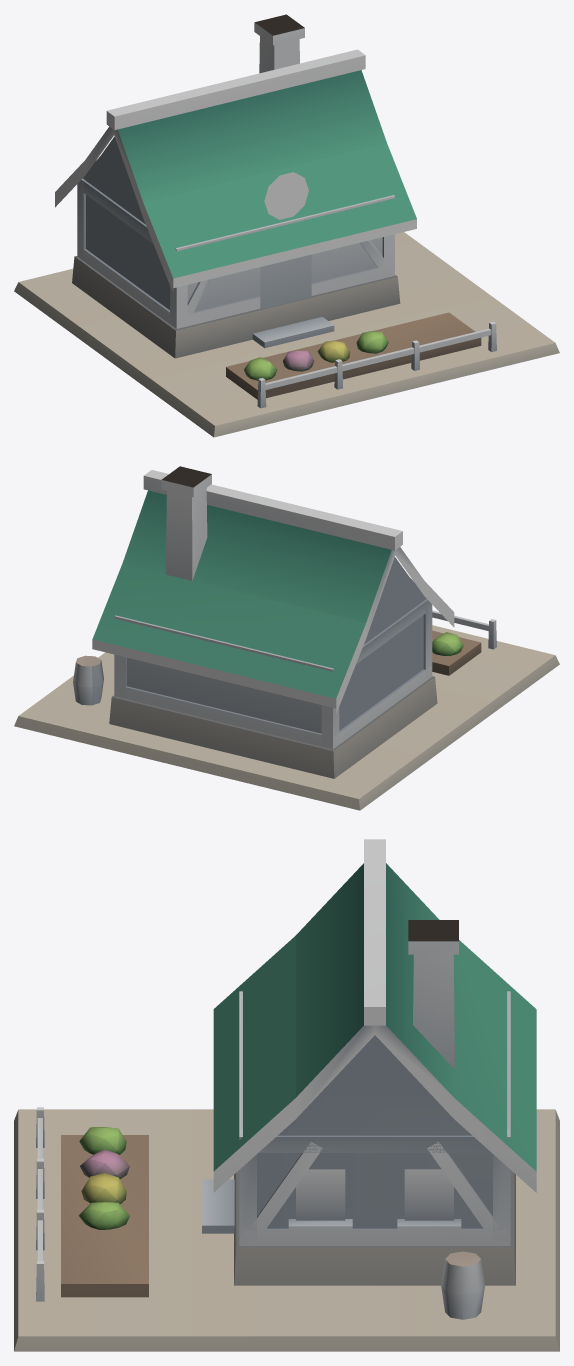
File: hospital_t2.glb
3 views of the same model, one above another, from view 1: azimuth 30°, elevation 25°; view 2: azimuth 150°, elevation 25°; view 3: azimuth 270°, elevation 25° (orthographic). The views are drawn at different scales.
Visible parts, largest first — view 1: hospital_t2; view 2: hospital_t2; view 3: hospital_t2.
Boxes of the visible parts, x1=… form: hospital_t2: x1=14, y1=14, x2=559, y2=437; hospital_t2: x1=14, y1=466, x2=559, y2=810; hospital_t2: x1=14, y1=839, x2=559, y2=1351.
Size of the model in its own units: 1.86 by 1.26 by 1.86.
